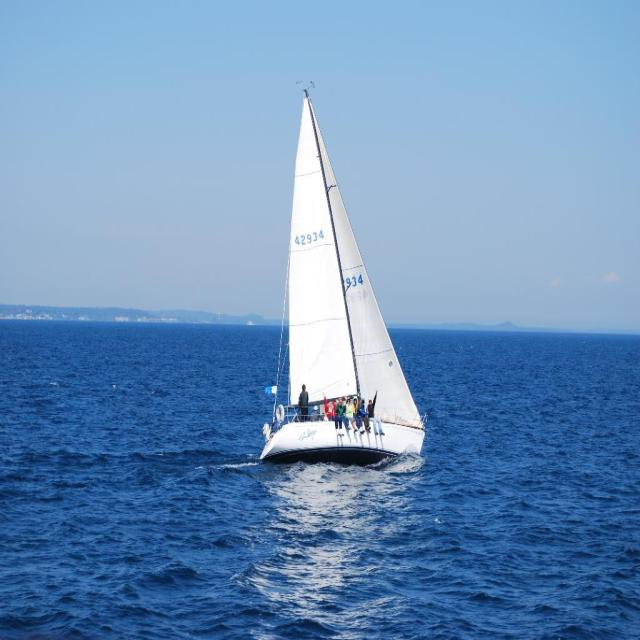Boat: (258, 73, 428, 476)
